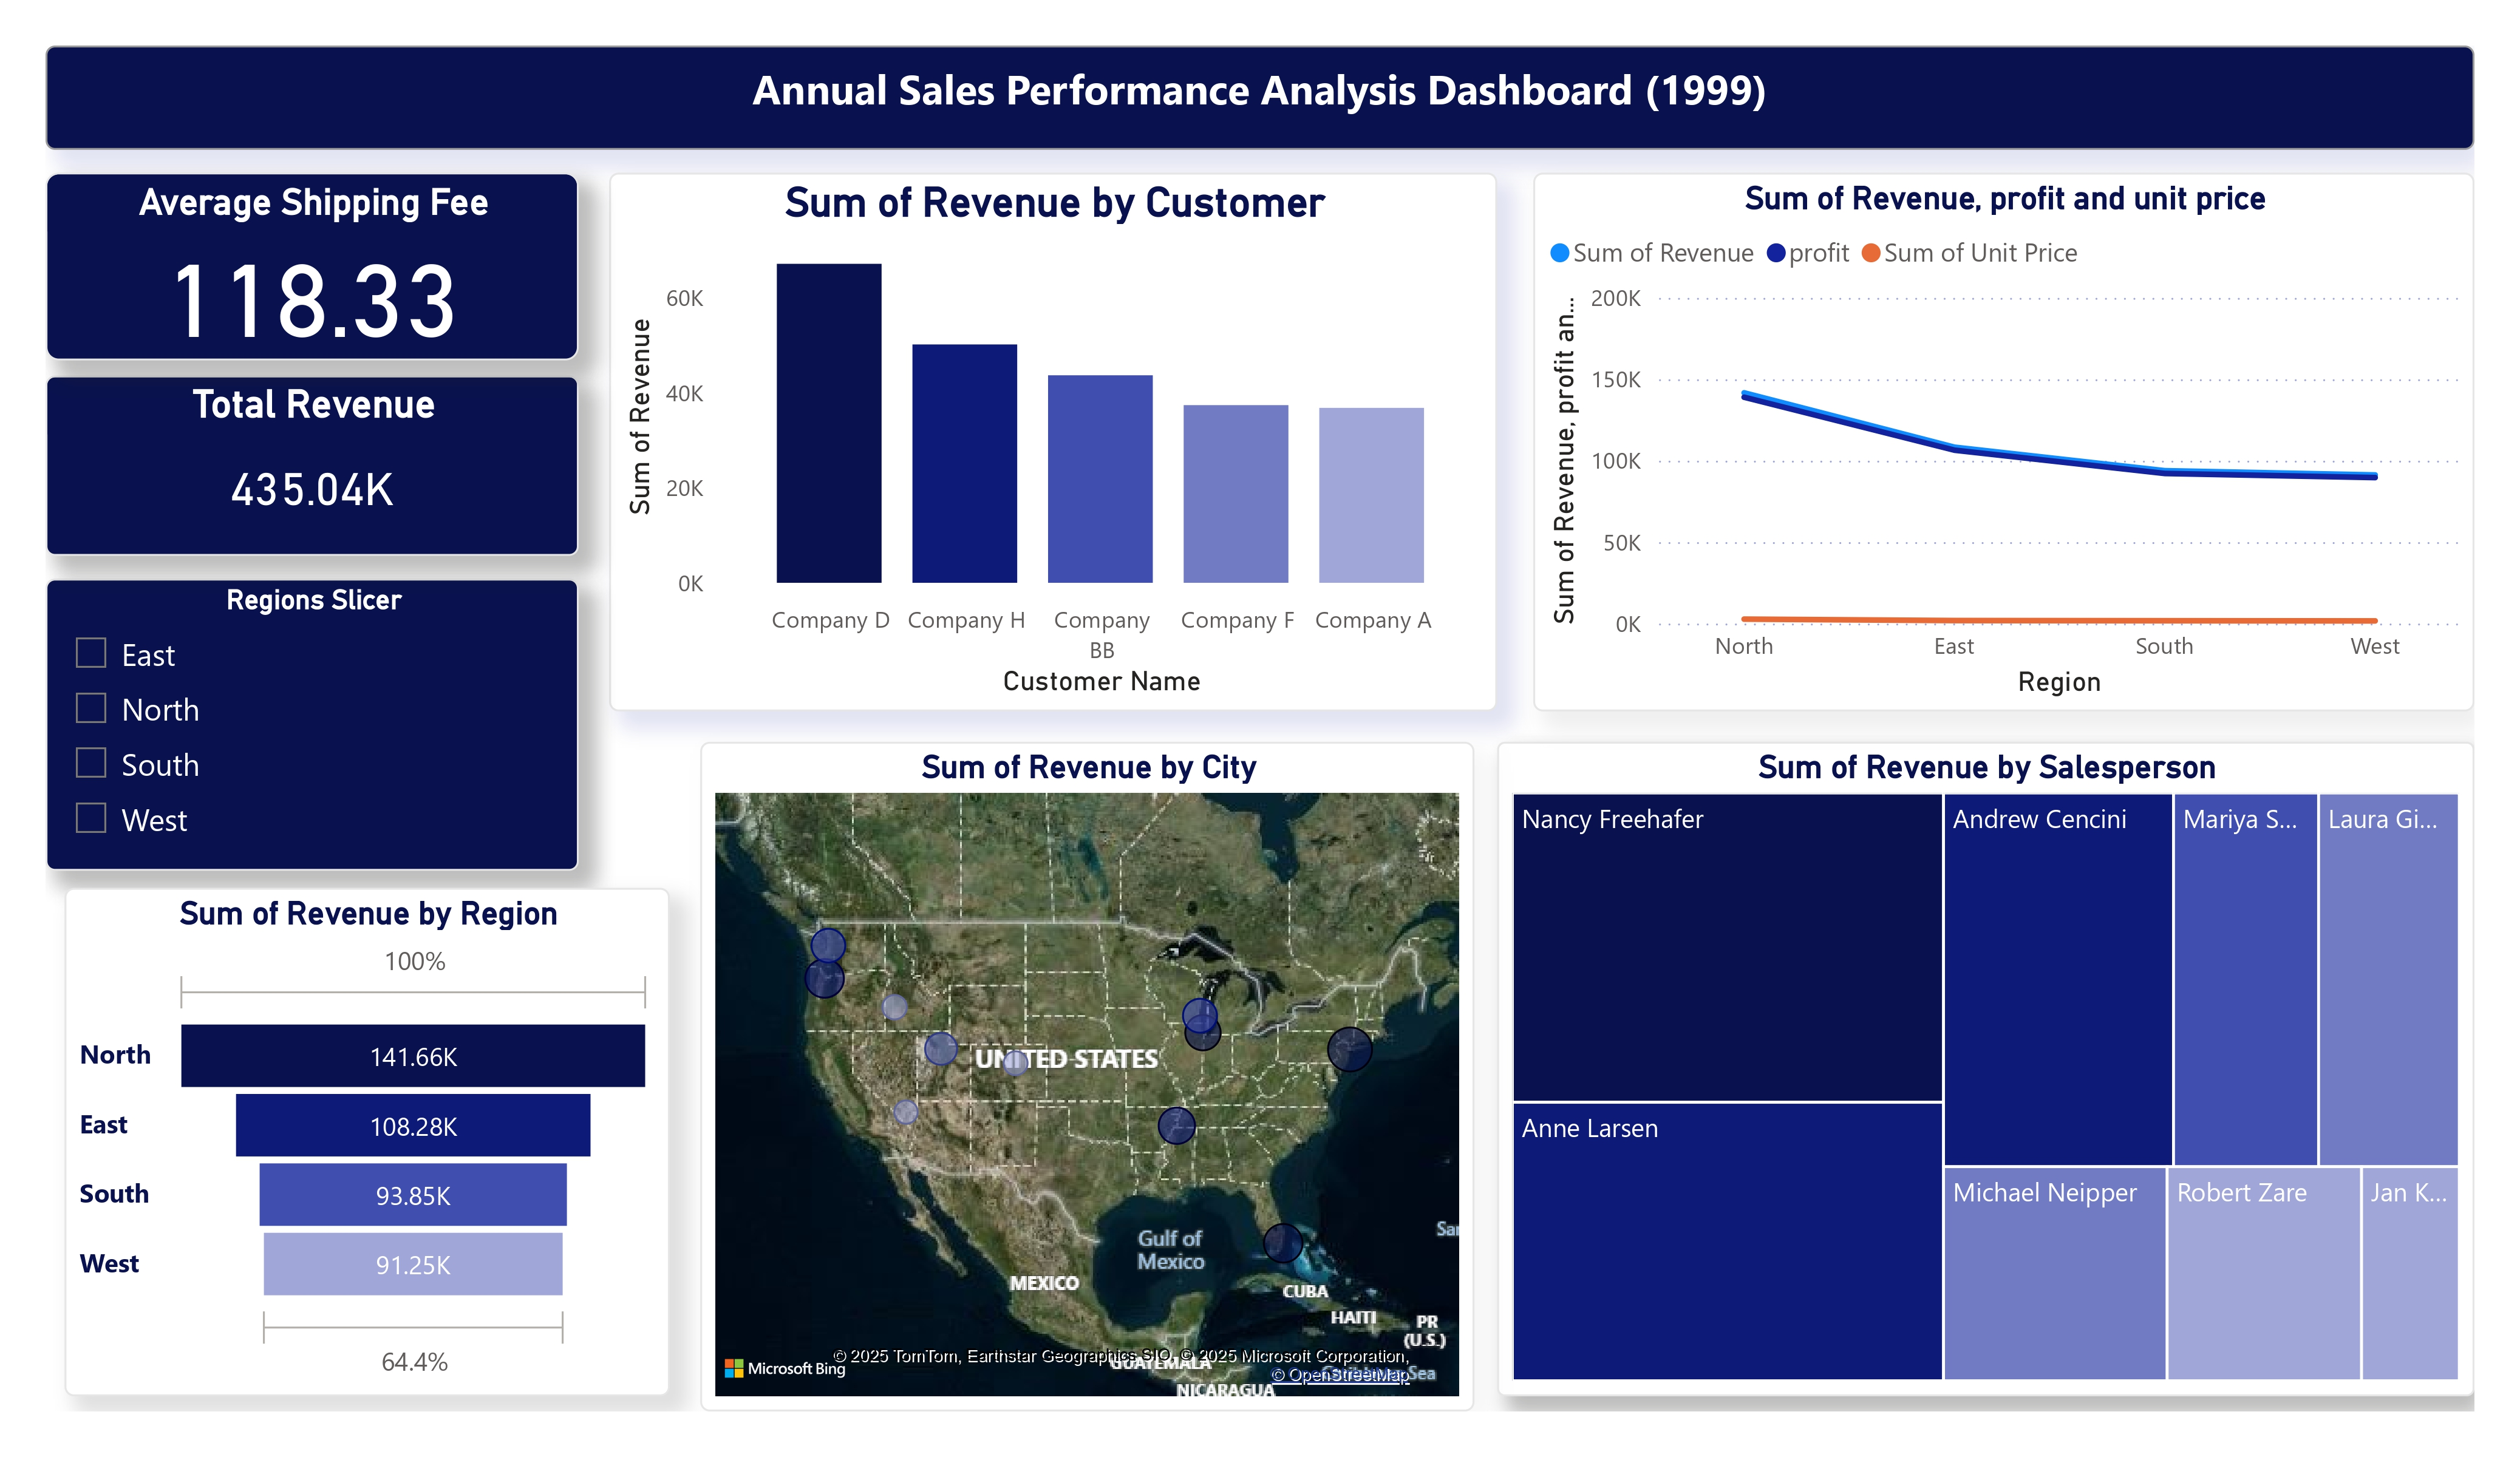

The page's visual inventory and layout, read from the dashboard file:
{"tool":"powerbi","page":{"name":"Page 1","canvas":[1280,720],"ordinal":0},"visuals":[{"type":"textbox","box":[0,0,1280,54.5],"z":0},{"type":"columnChart","title":"Sum of Revenue by Customer","fields":{"Category":["Data (2).Customer Name"],"Y":["Data (2).Revenue"]},"box":[296.7,67.1,468.6,284.1],"z":1000},{"type":"slicer","title":"Regions Slicer","fields":{"Values":["Data (2).Region"]},"box":[0,281,281,154.1],"z":2000},{"type":"card","title":"Total Revenue ","fields":{"Values":["Data (2).Revenue"]},"box":[0,174,281,95.4],"z":4000},{"type":"treemap","fields":{"Group":["Data (2).Salesperson"],"Values":["Data (2).Revenue"]},"box":[765.3,366.9,514.7,344.9],"z":5000},{"type":"funnel","fields":{"Category":["Data (2).Region"],"Y":["Data (2).Revenue"]},"box":[10.5,444.5,318.7,267.3],"z":6000},{"type":"lineChart","title":"Sum of Revenue, profit and unit price","fields":{"Y":["Data (2).Revenue","select","Data (2).Unit Price"],"Category":["Data (2).Region"]},"box":[784.2,67.1,495.9,284.1],"z":7000},{"type":"card","title":"Average Shipping Fee","fields":{"Values":["Data (2).Shipping Fee"]},"box":[0,67.1,281,98.5],"z":8000},{"type":"map","fields":{"Size":["Data (2).Revenue"],"Category":["Data (2).City"]},"box":[344.9,366.9,407.8,353.3],"z":9000}]}

Visuals, with their boxes on the page's 1280x720 design canvas (x1, y1, x2, y2). These are canvas units, not pixel positions in the 2520x1457 screenshot, which may show the page scaled, cropped or inside an application window:
textbox: {"x1": 0, "y1": 0, "x2": 1280, "y2": 54}
"Sum of Revenue by Customer" columnChart: {"x1": 297, "y1": 67, "x2": 765, "y2": 351}
"Regions Slicer" slicer: {"x1": 0, "y1": 281, "x2": 281, "y2": 435}
"Total Revenue " card: {"x1": 0, "y1": 174, "x2": 281, "y2": 269}
treemap - Data (2).Salesperson x Data (2).Revenue: {"x1": 765, "y1": 367, "x2": 1280, "y2": 712}
funnel - Data (2).Region x Data (2).Revenue: {"x1": 10, "y1": 444, "x2": 329, "y2": 712}
"Sum of Revenue, profit and unit price" lineChart: {"x1": 784, "y1": 67, "x2": 1280, "y2": 351}
"Average Shipping Fee" card: {"x1": 0, "y1": 67, "x2": 281, "y2": 166}
map - Data (2).Revenue x Data (2).City: {"x1": 345, "y1": 367, "x2": 753, "y2": 720}
